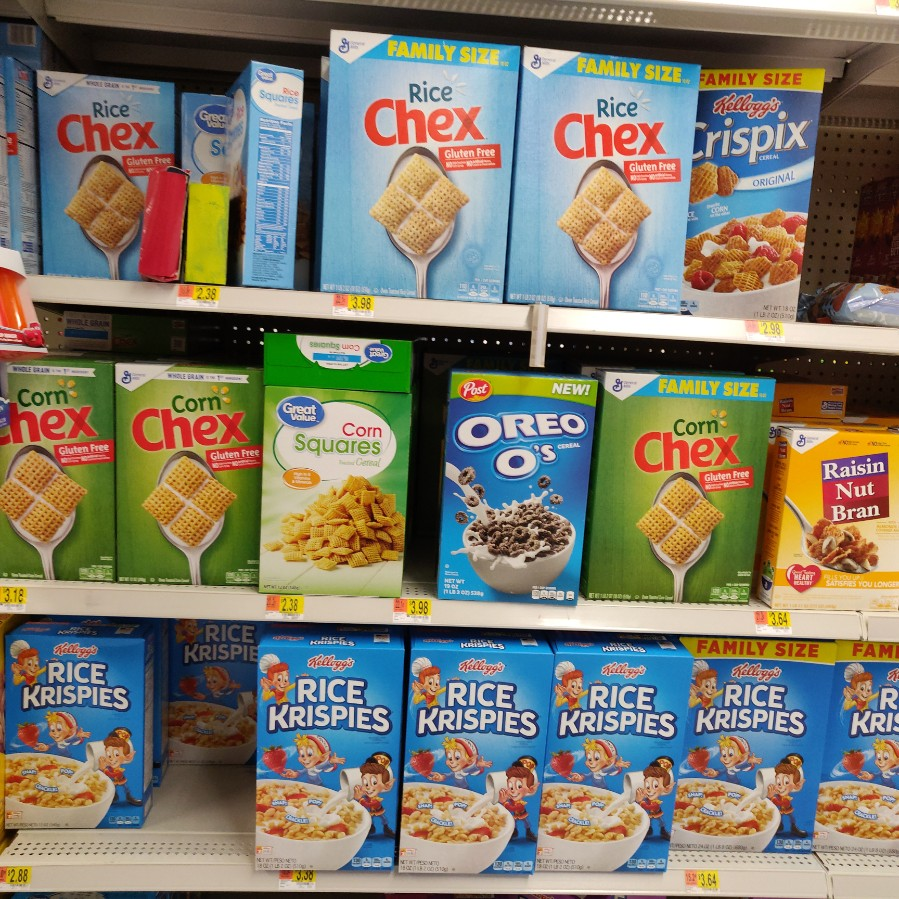Oreo-563424384: (443, 372, 598, 610)
